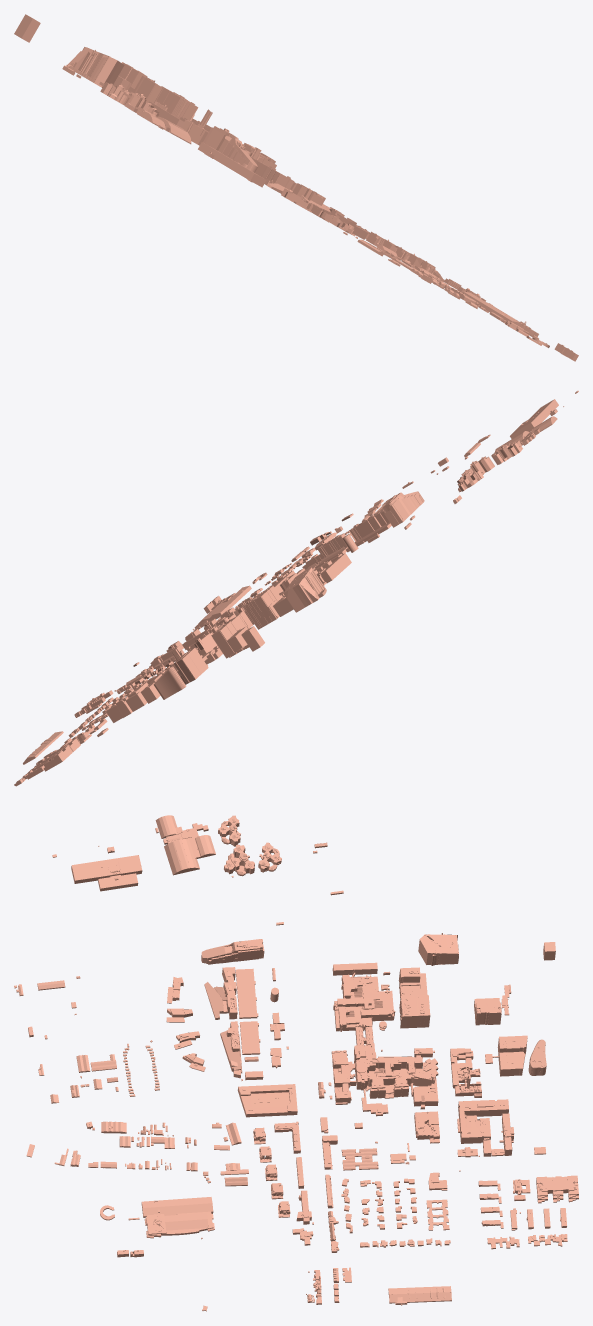
3 renders of one model, top to bottom at view 1: azimuth 30°, elevation 25°; view 2: azimuth 150°, elevation 25°; view 3: azimuth 270°, elevation 25°, orthographic. The views are drawn at different scales.
Size of the model in its own units: 3.19e+07 by 2.51e+07 by 4.11e+07.
